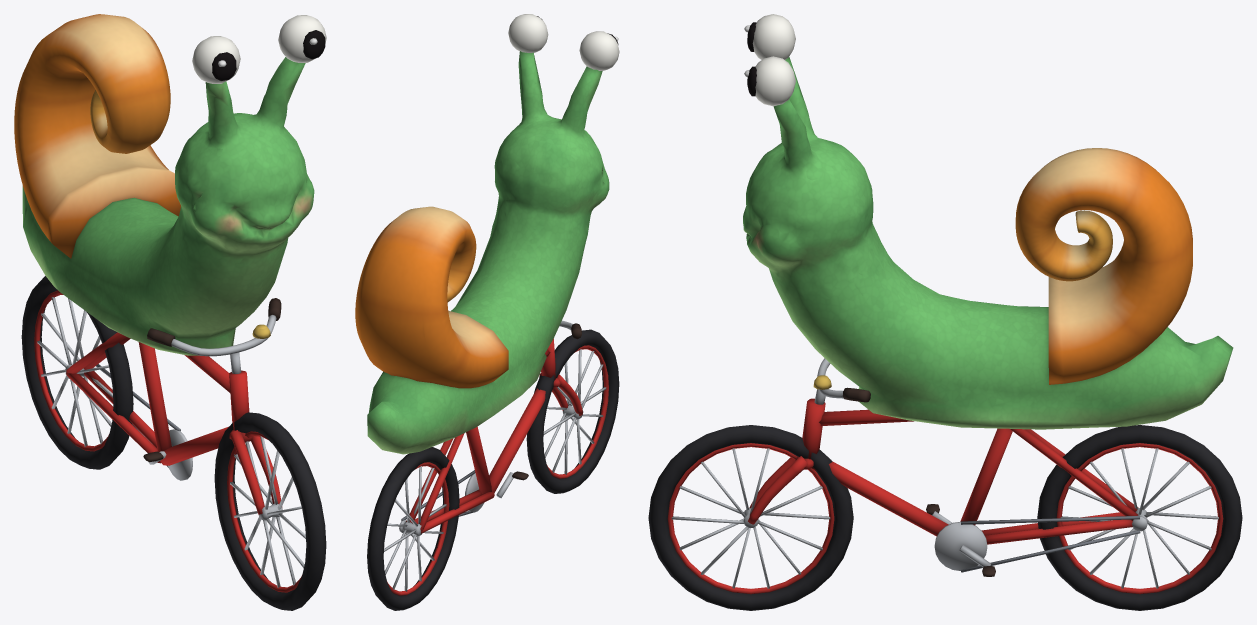
Rendered from snailrider.fbx.
3 renders of one model, left to right at view 1: azimuth 30°, elevation 25°; view 2: azimuth 150°, elevation 25°; view 3: azimuth 270°, elevation 25°, orthographic. The views are drawn at different scales.
Visible parts, largest first — view 1: SnailRider_Body, SnailRider_Eyes; view 2: SnailRider_Body, SnailRider_Eyes; view 3: SnailRider_Body, SnailRider_Eyes.
Part boxes in pixels (x1,y1,x2,y2): SnailRider_Body: [14, 14, 326, 610]; SnailRider_Eyes: [192, 15, 326, 83]; SnailRider_Body: [355, 16, 619, 610]; SnailRider_Eyes: [508, 14, 619, 70]; SnailRider_Body: [648, 22, 1242, 610]; SnailRider_Eyes: [752, 14, 795, 106].
Size of the model in its own units: 0.8601 by 3.34 by 3.13.
2 materials, 1 textured.
